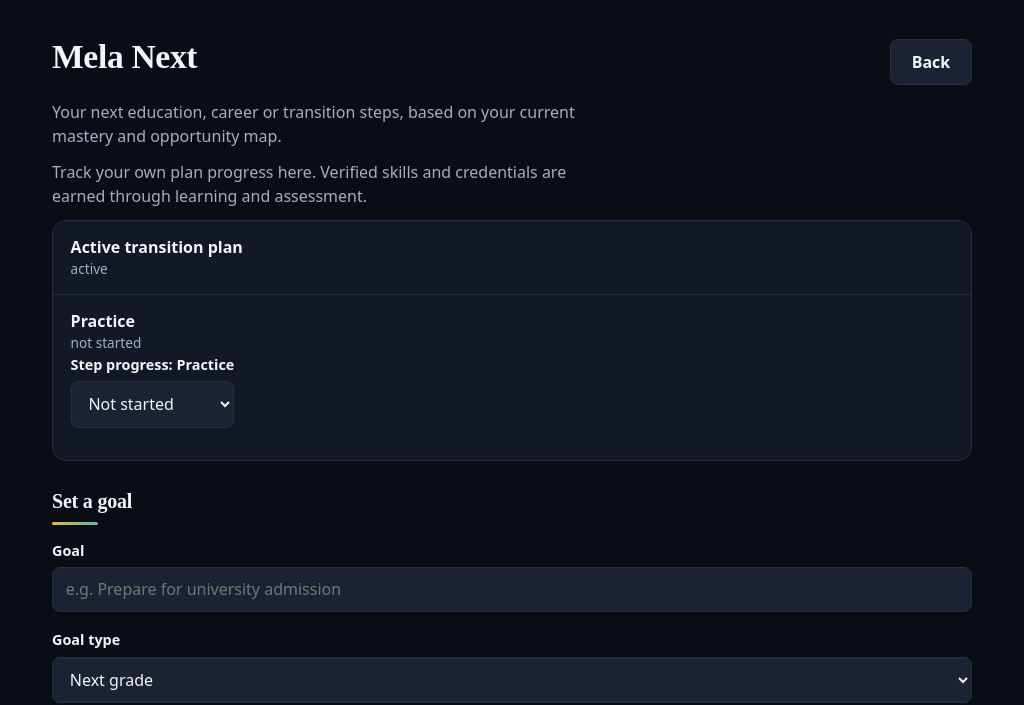
preserves step status after a rejected save and permits retry
Select "Completed" in the dropdown labelled "Step progress: Practice": (152, 404) [71,381,234,428]
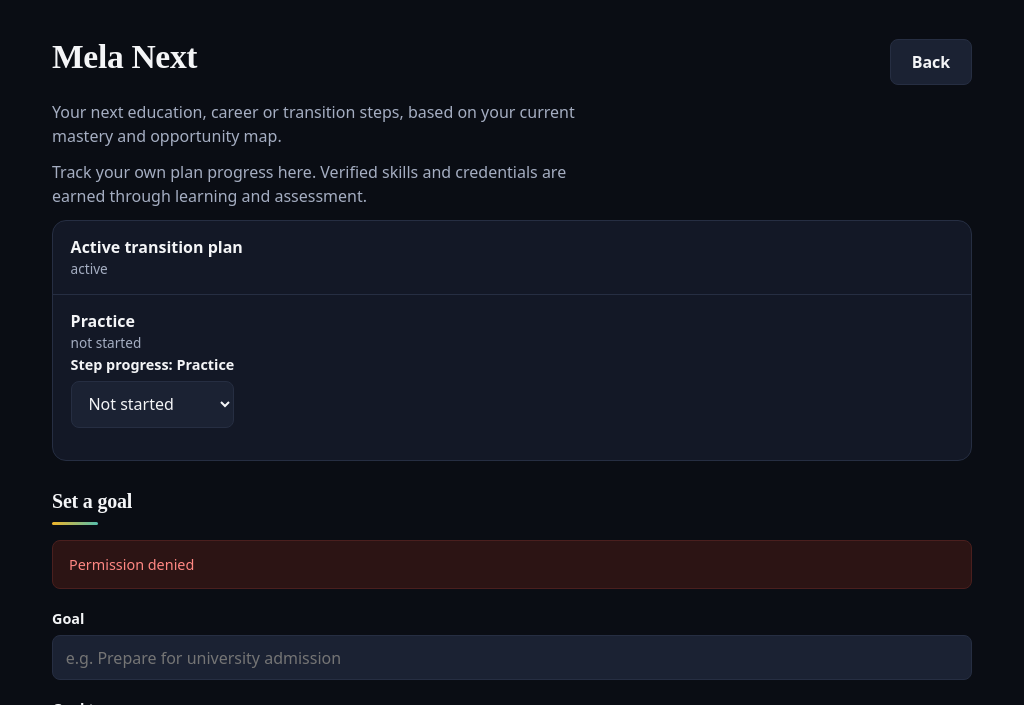
Expected: the text "Permission denied" is shown, [52,540,972,589]
Select "In progress" in the dropdown labelled "Step progress: Practice": (152, 404) [71,381,234,428]
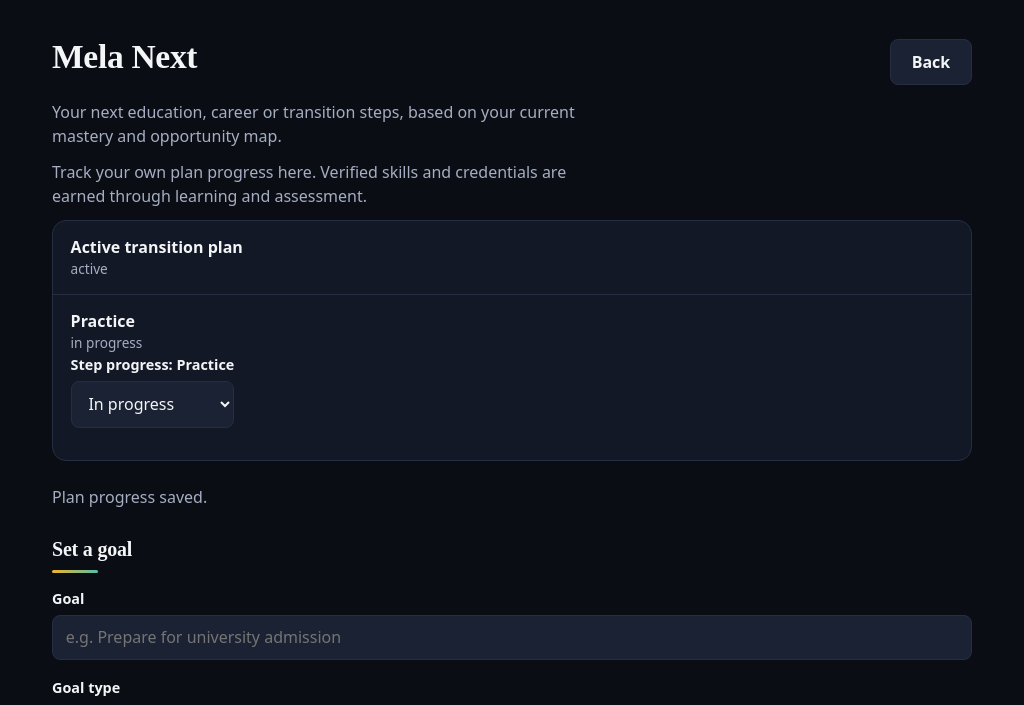
Expected: the text "Plan progress saved." is shown, [52,486,207,508]
